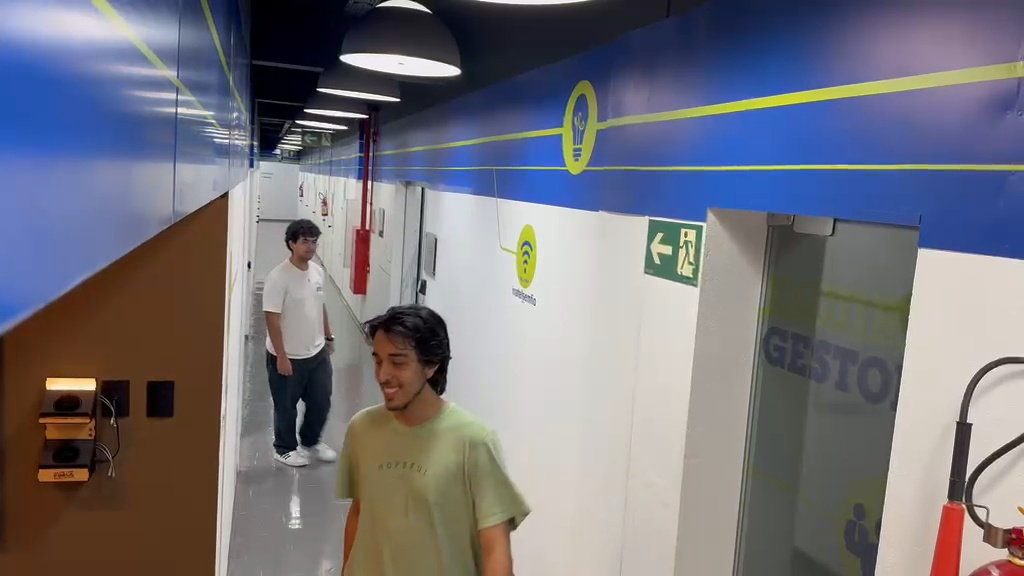person: (335, 305, 531, 573), (263, 220, 355, 466)
